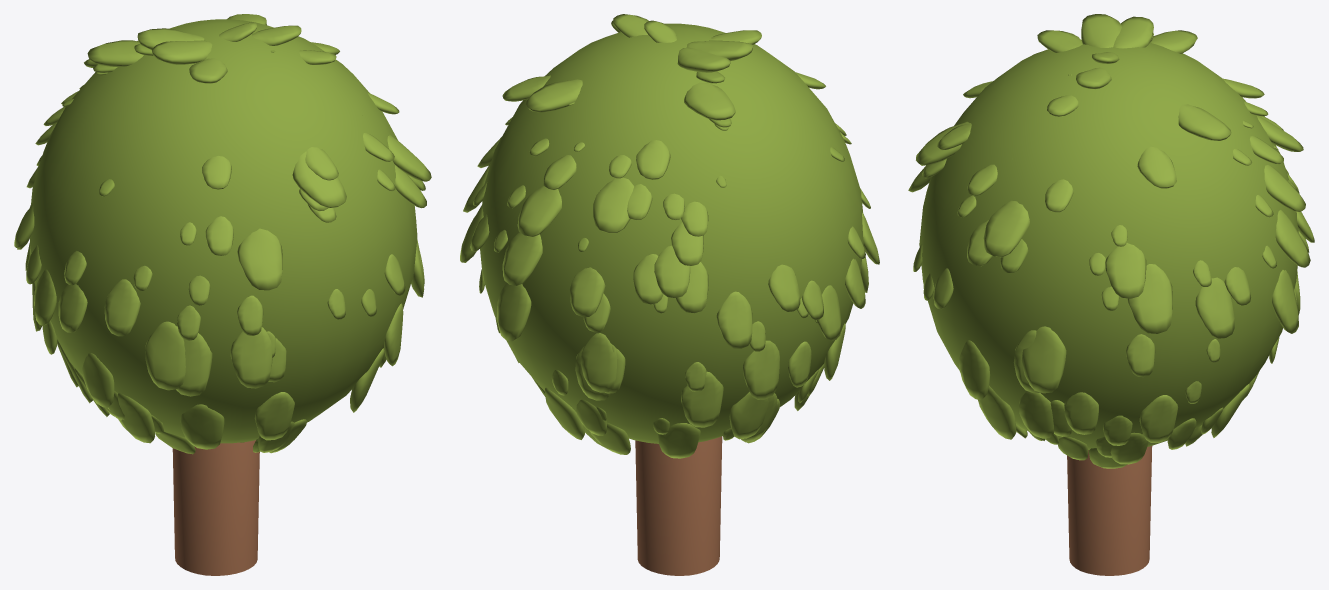
File: tree (1).fbx
3 renders of one model, left to right at view 1: azimuth 30°, elevation 25°; view 2: azimuth 150°, elevation 25°; view 3: azimuth 270°, elevation 25°, orthographic. The views are drawn at different scales.
Parts seen in each view (by area): view 1: model_12.001, model_13.001; view 2: model_12.001, model_13.001; view 3: model_12.001, model_13.001.
Part boxes in pixels (left/top/right/bottom): model_12.001: left=14, top=14, right=431, bottom=454; model_13.001: left=172, top=440, right=259, bottom=575; model_12.001: left=460, top=14, right=879, bottom=458; model_13.001: left=635, top=436, right=722, bottom=575; model_12.001: left=908, top=14, right=1314, bottom=468; model_13.001: left=1067, top=446, right=1152, bottom=575.
Size of the model in its own units: 1749 by 2446 by 1743.
